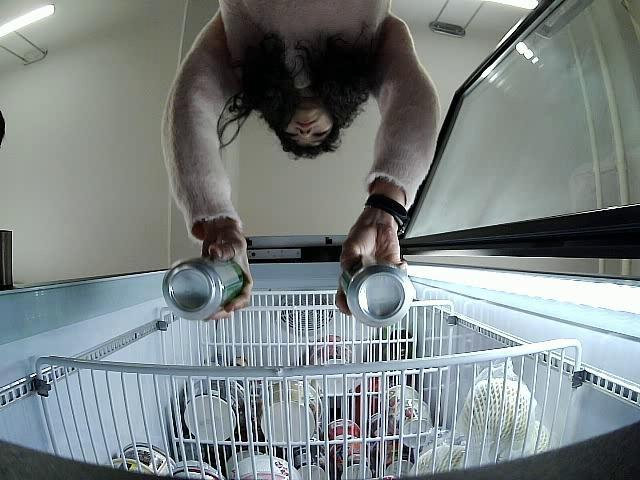12_chilsungCider: (338, 259, 415, 328), (162, 259, 245, 320)
